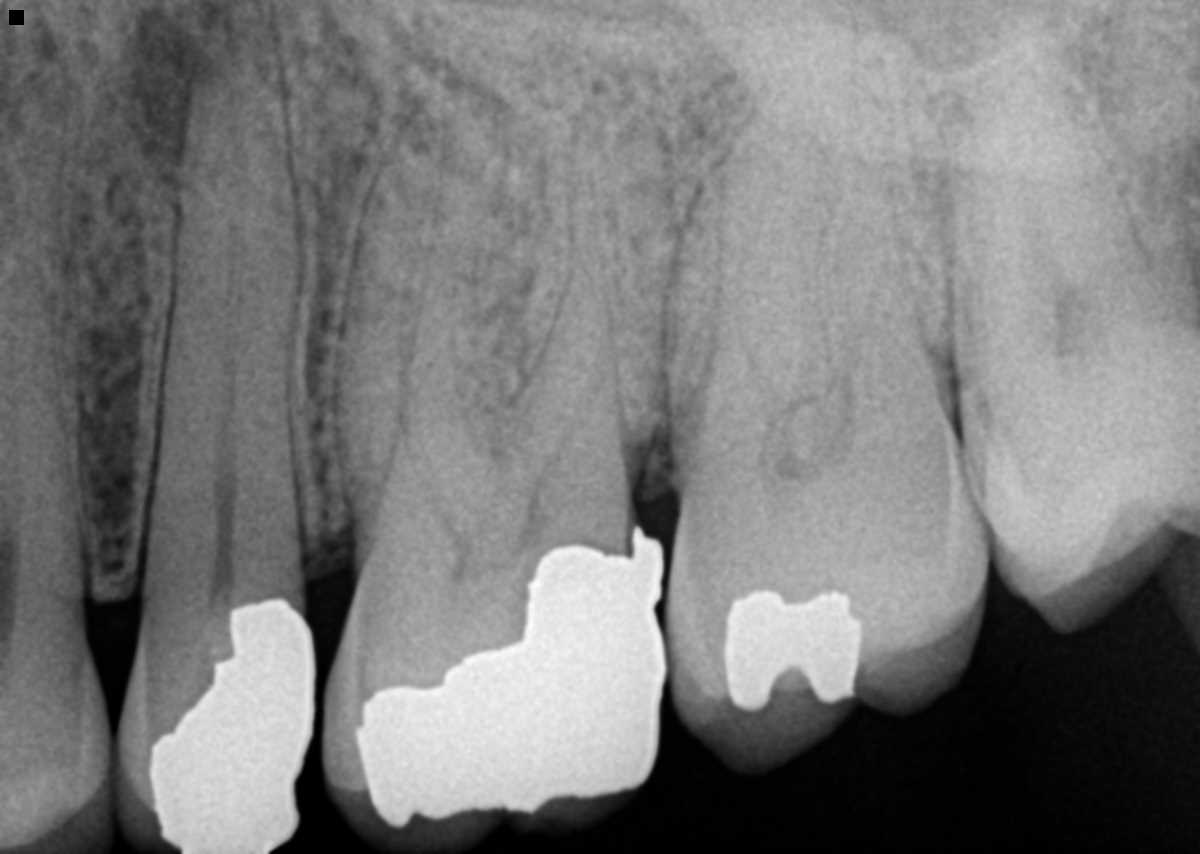Apical Lesion: (129, 0, 247, 178)
Distal Canal: (560, 254, 624, 445), (847, 221, 890, 361)
Distal Root: (485, 62, 670, 477), (806, 28, 944, 371)
Main Canal: (211, 18, 246, 588)
Main Root: (141, 0, 306, 602), (950, 21, 1147, 371), (0, 66, 87, 577)
Mesial Canal: (391, 216, 433, 475), (734, 307, 775, 401)
Mesial Root: (334, 84, 503, 526), (662, 130, 836, 447)
Palatal Root: (698, 0, 920, 399)
